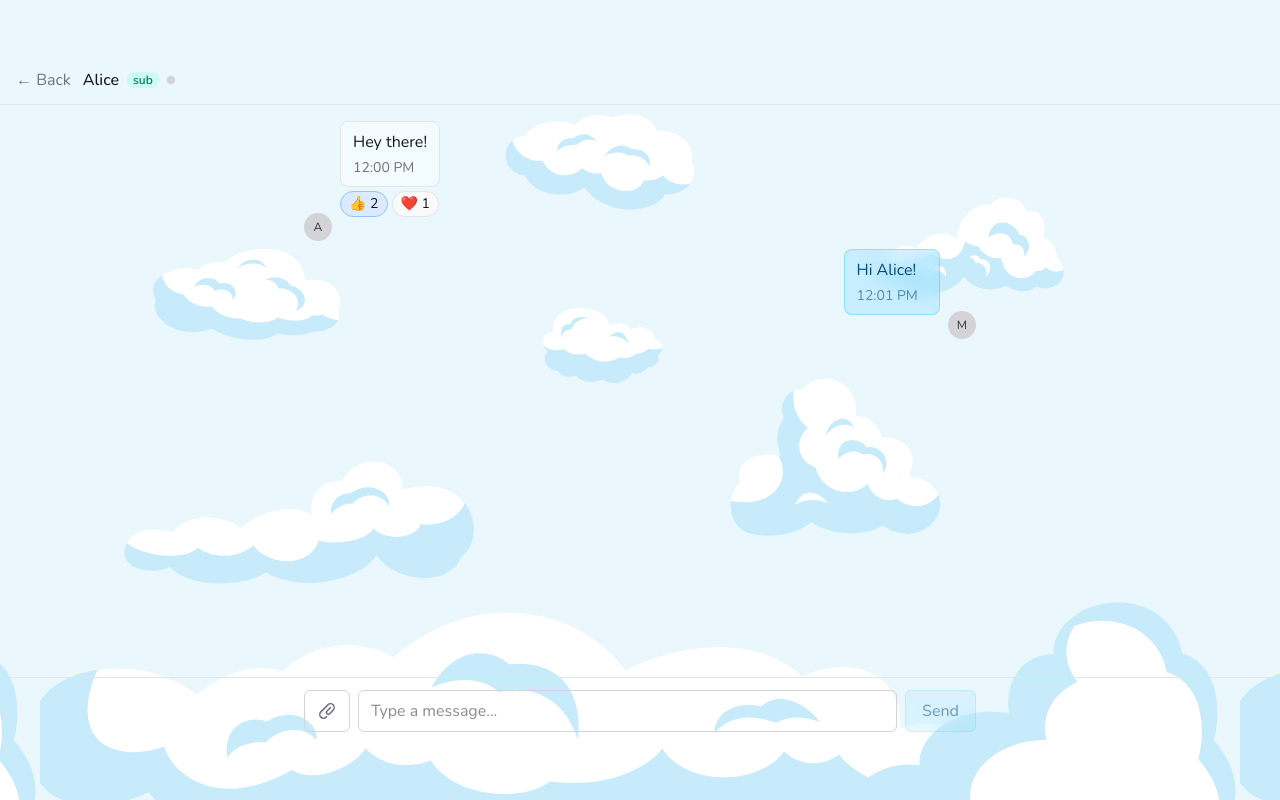
ChatClient reactions › optimistically updates reaction count when removing
Step 1. Click the button "👍 2" → {"x": 364, "y": 204}, box [340,191,388,217]
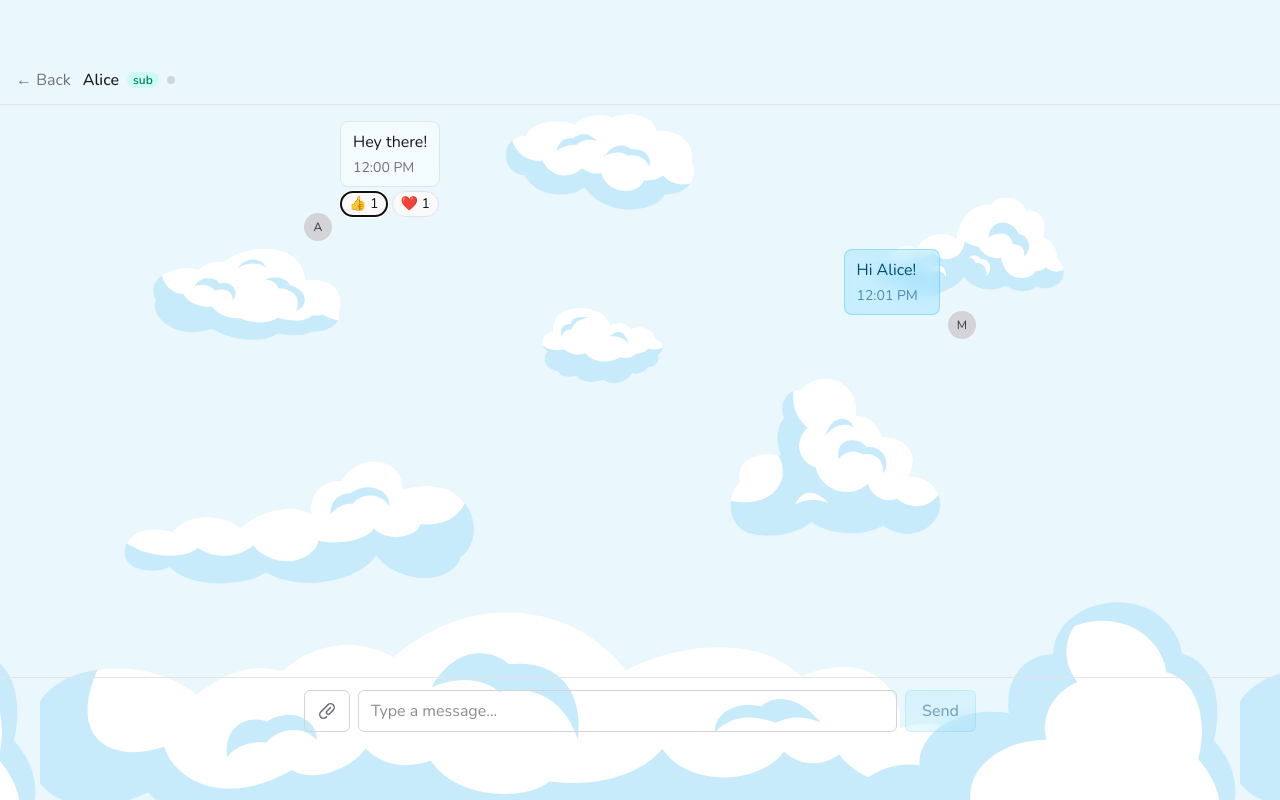
Expected: the button "👍 1" is shown, [340,191,388,217]
